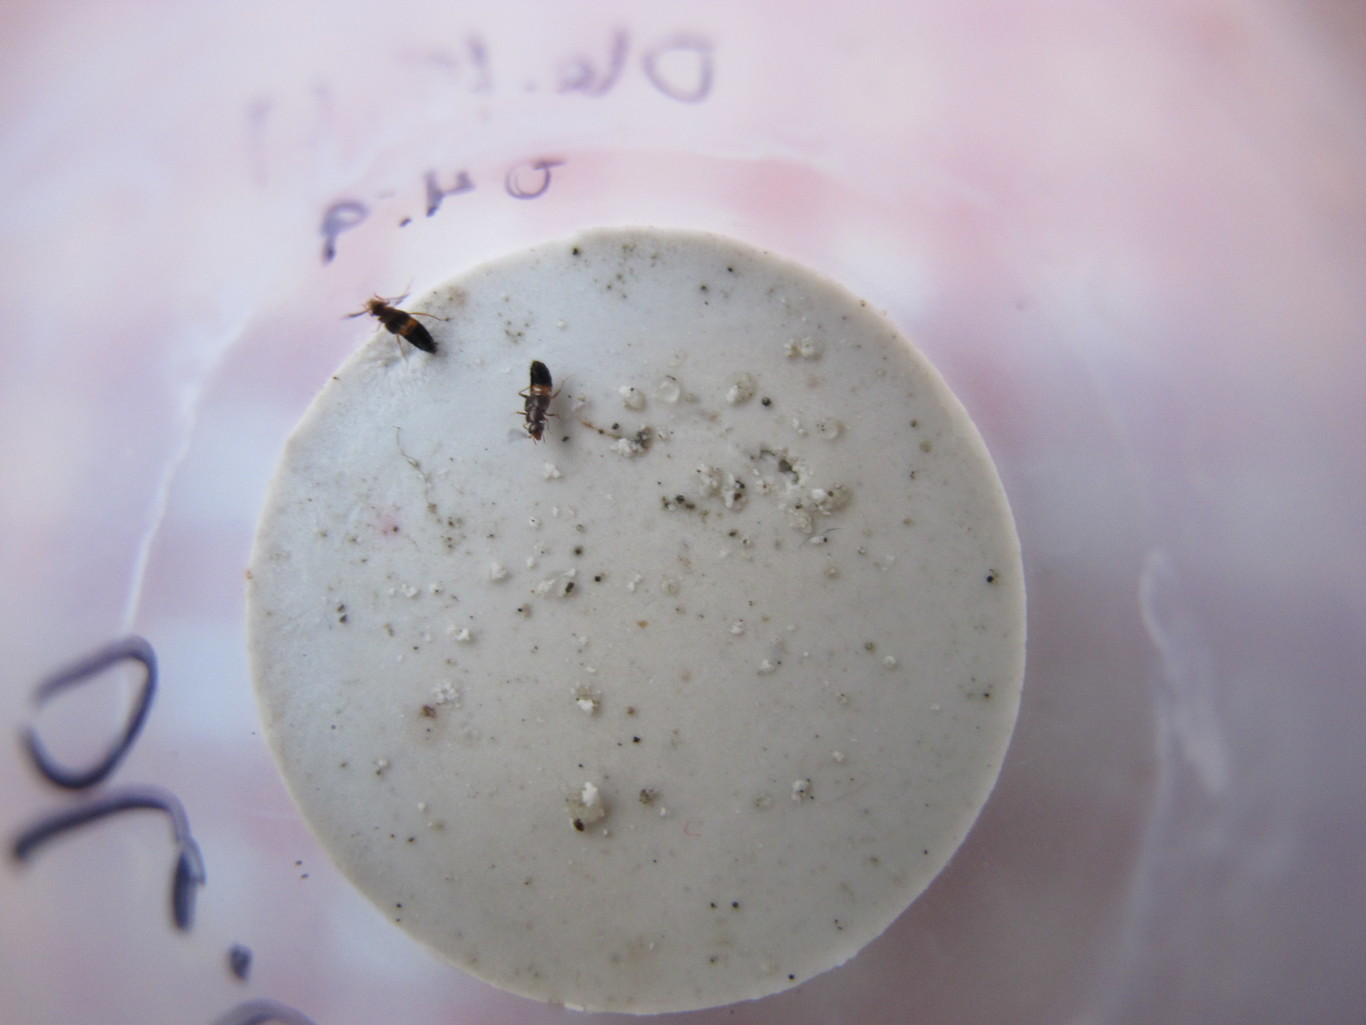phorid fly: (329, 275, 457, 375), (489, 351, 601, 463)
